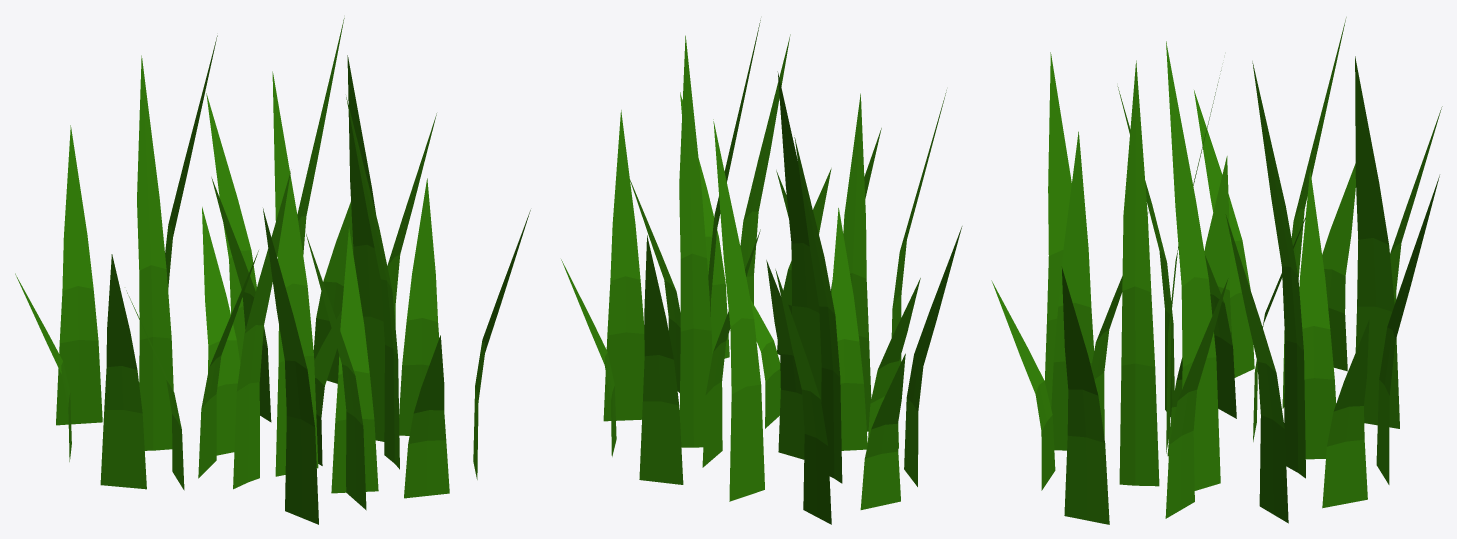
The model's file is GrassTufts.fbx.
3 renders of one model, left to right at view 1: azimuth 30°, elevation 25°; view 2: azimuth 150°, elevation 25°; view 3: azimuth 270°, elevation 25°, orthographic. The views are drawn at different scales.
Visible parts, largest first — view 1: GrassTuft; view 2: GrassTuft; view 3: GrassTuft.
Boxes of the visible parts, bbox=[...] form: GrassTuft: bbox=[15, 18, 530, 524]; GrassTuft: bbox=[561, 20, 962, 524]; GrassTuft: bbox=[991, 17, 1442, 524].
Bounding box in the file's own units: 1.92 × 2.01 × 1.89.
